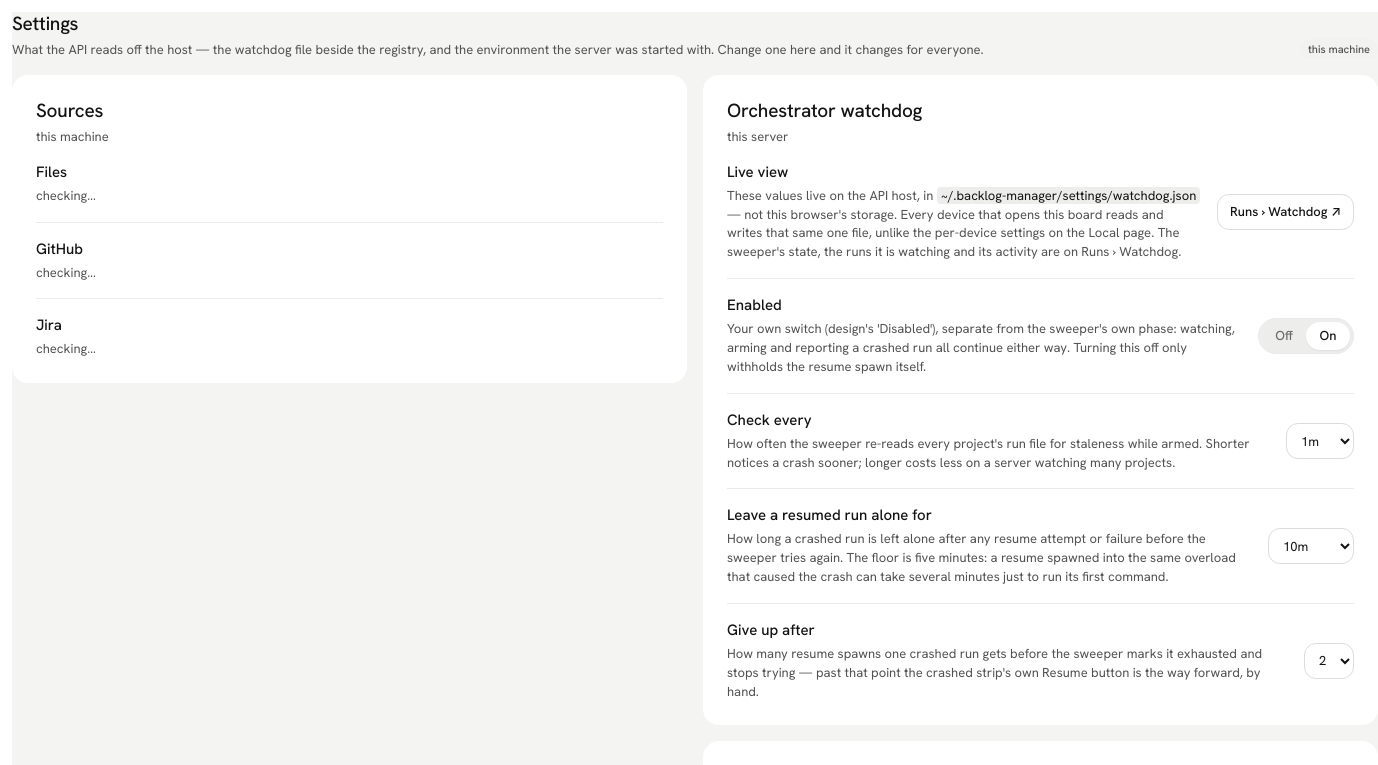
WatchdogGroup › removes the message once a later save succeeds
Select "3" in the dropdown named "Give up after" at (1329, 661), box [1304,643,1354,679]
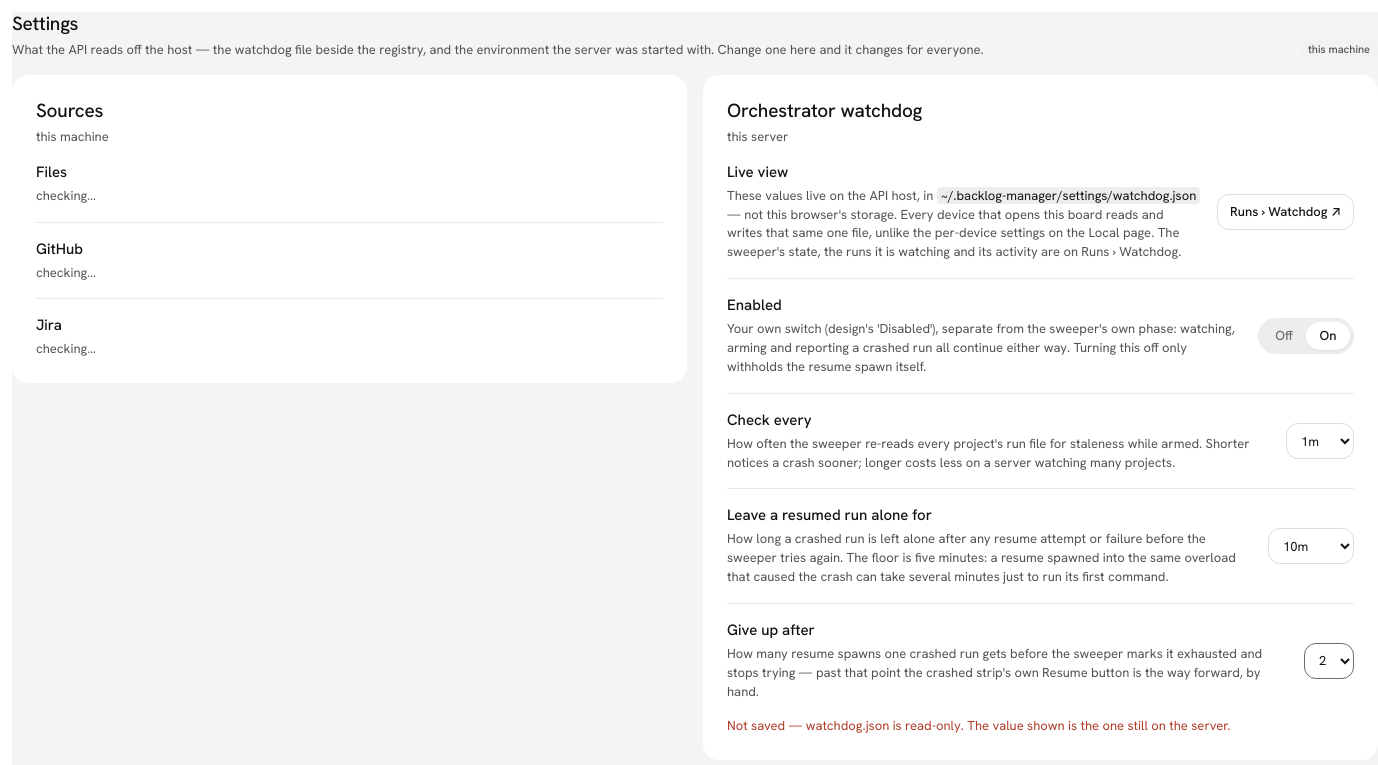
Check: the message is shown, box [727,717,1230,734]
Select "4" in the dropdown named "Give up after" at (1329, 661), box [1304,643,1354,679]
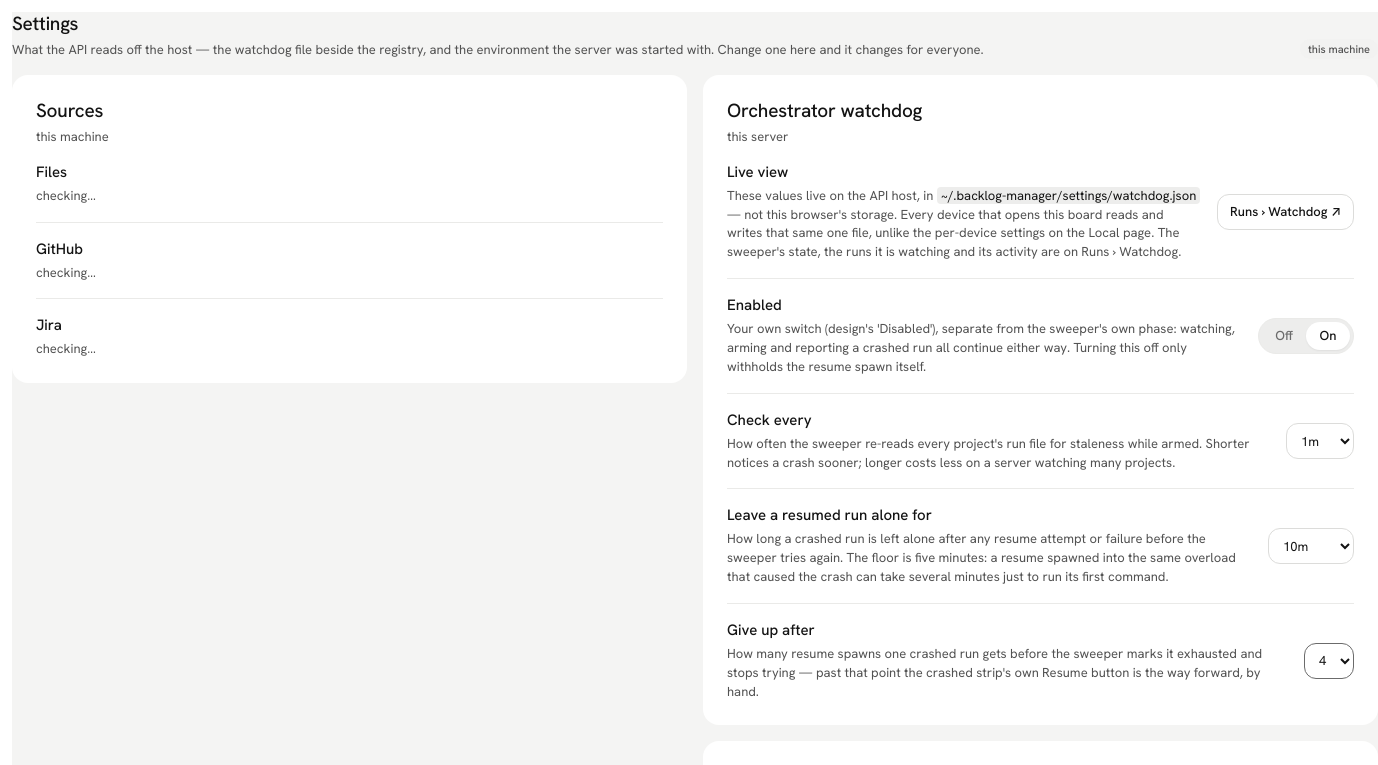
Check: the message "Not saved — watchdog.json is read-only. The value shown is the one still on the" is gone
